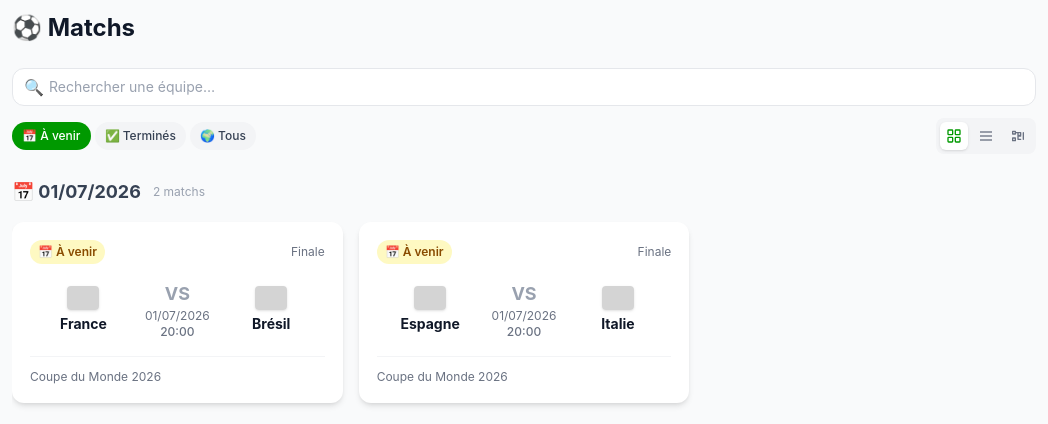
Test: Matches — recherche › filtre par équipe B
Type "ital" into the field with placeholder "Rechercher une équipe…" at (524, 87), box [12,68,1036,106]
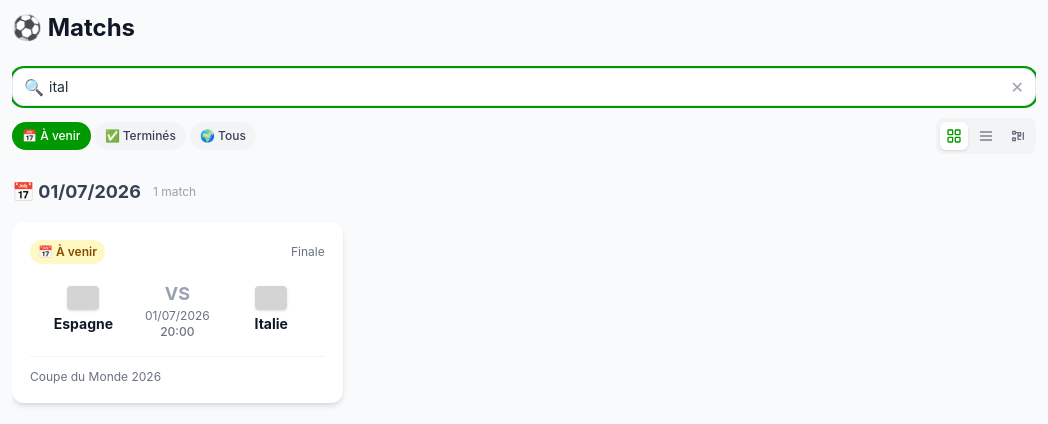
Expected: the text "Italie" is shown, [254,315,288,332]
Result: the link "Brésil" is gone
